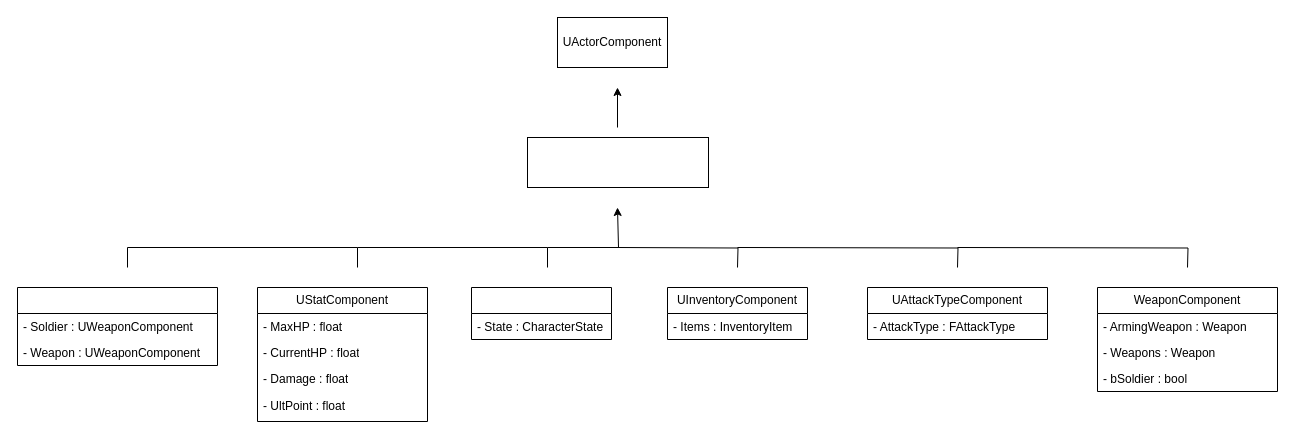
Some shapes in this 1295 by 439 pixel diagram are drawn without their labels. Each missing label, with the box of its shape:
UCharacterBaseComponent: (526, 136, 708, 188)
UModeManageComponent: (16, 286, 218, 366)
UStateComponent: (470, 286, 612, 340)
